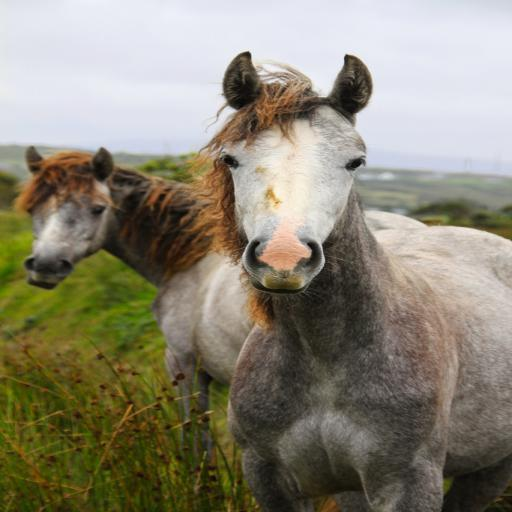horse: (183, 52, 512, 512), (21, 142, 430, 433)
